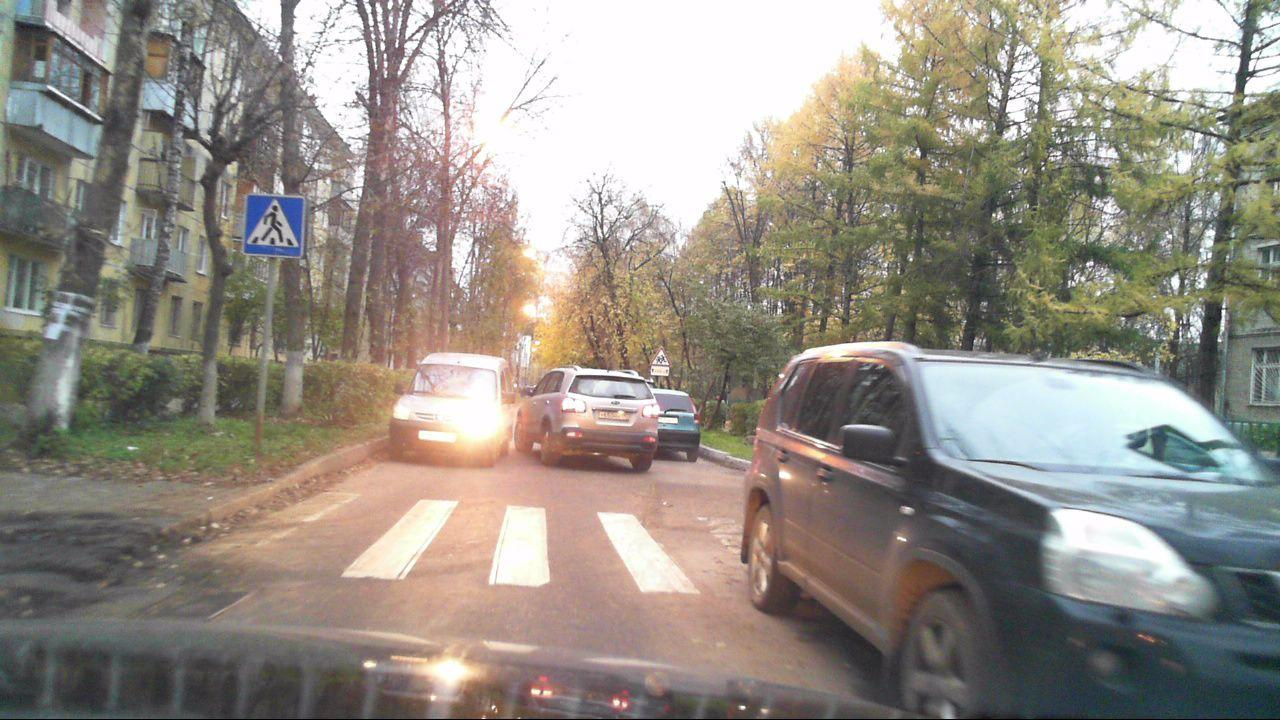road_sign: (241, 192, 309, 261), (649, 345, 673, 366)
